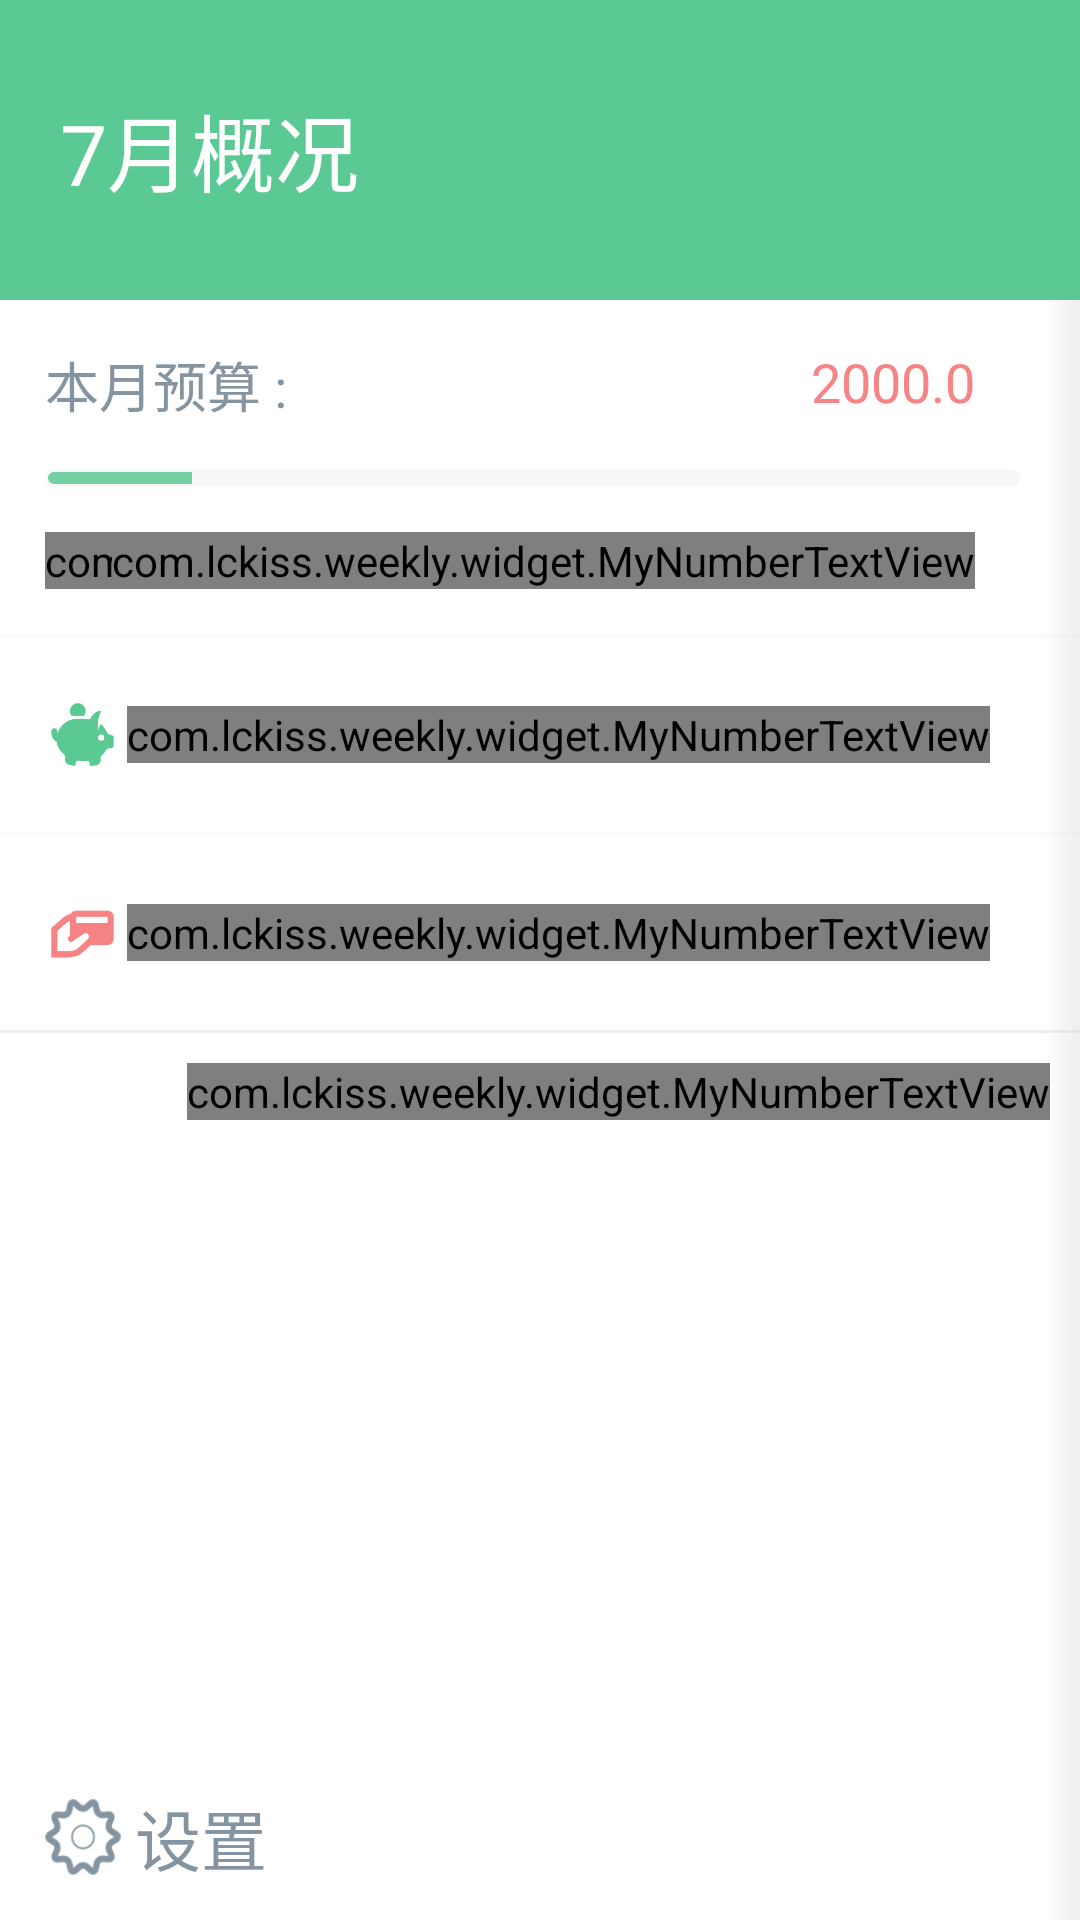

Screen size 1080*1920. Icon name, then its box in pixels as box=[x1, y1, x2, y2]:
slide expend: box=[51, 910, 114, 958]
slide save: box=[51, 703, 114, 767]
